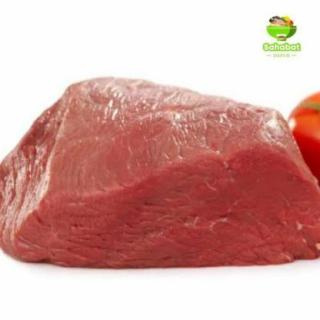Daging Sapi: (2, 77, 320, 270)
